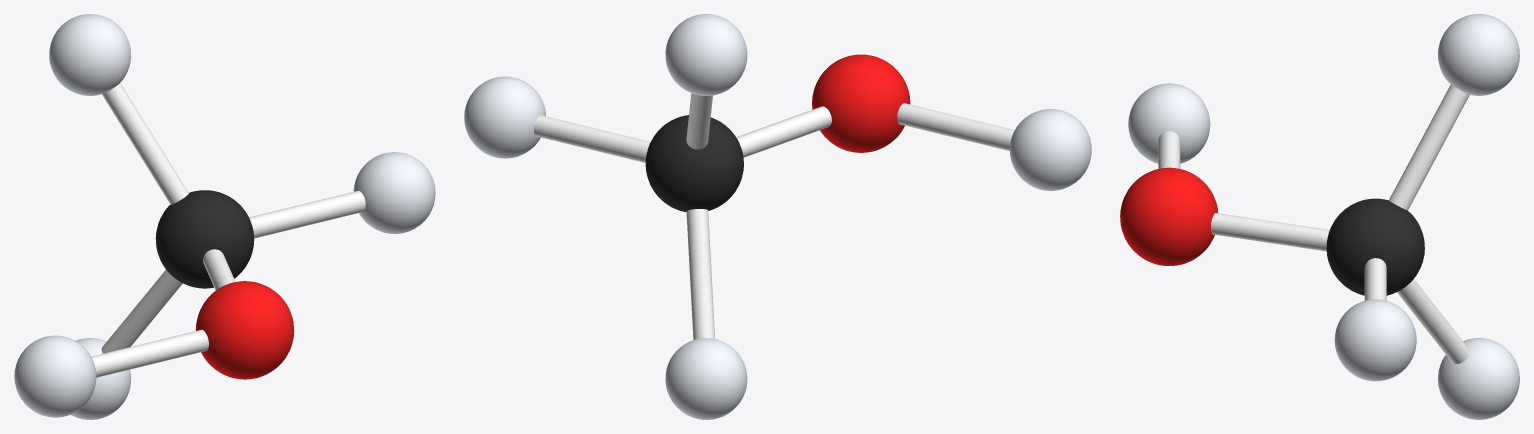
Rendered from methanol.fbx.
3 views of the same model, side by side, from view 1: azimuth 30°, elevation 25°; view 2: azimuth 150°, elevation 25°; view 3: azimuth 270°, elevation 25° (orthographic).
Visible parts, largest first — view 1: alkanoles; view 2: alkanoles; view 3: alkanoles.
Part boxes in pixels (bbox=[...]): alkanoles: bbox=[14, 14, 435, 419]; alkanoles: bbox=[464, 14, 1091, 419]; alkanoles: bbox=[1120, 14, 1519, 419].
Size of the model in its own units: 217 by 161 by 146.
